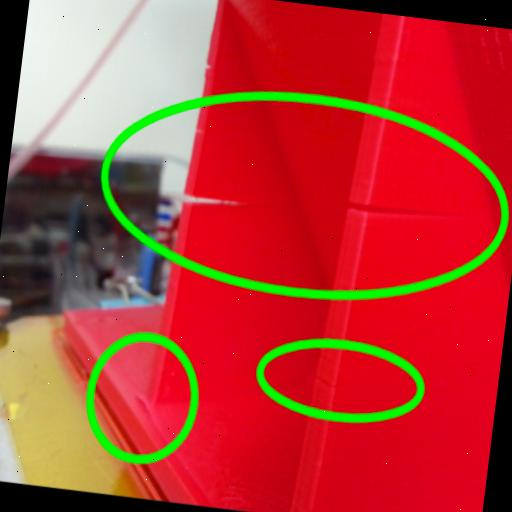cracks: (160, 151, 454, 264), (298, 370, 366, 400)
